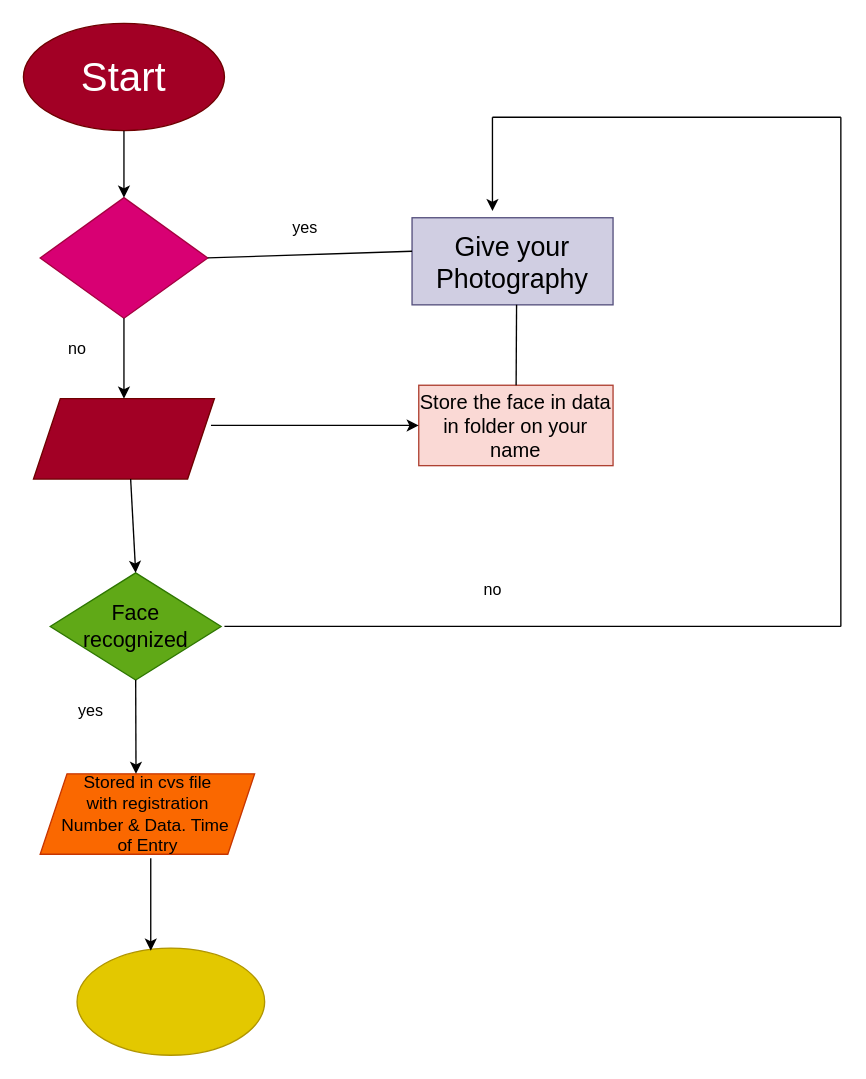
This 866x1079 diagram has some shape labels left out. Here are the shapes that lost their labels. From the top down, the centre of each, then its label:
At (x=123, y=257): "New User?".
At (x=123, y=438): "Recognize the face".
At (x=170, y=1001): "End".
